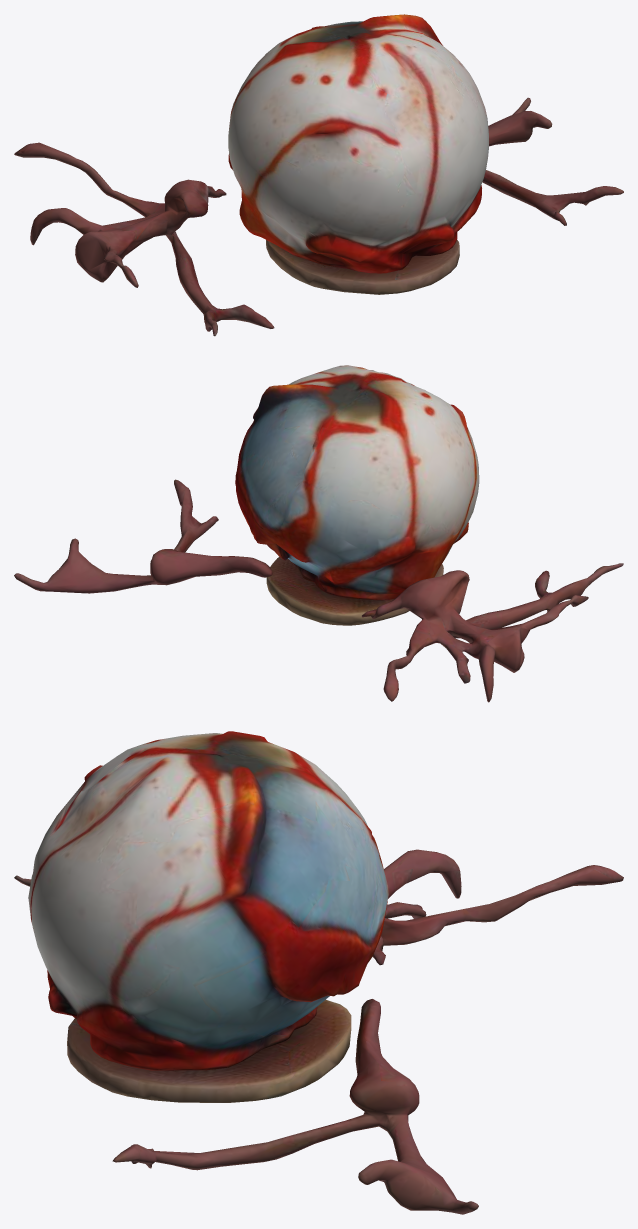
Rendered from eyeball.glb.
3 renders of one model, top to bottom at view 1: azimuth 30°, elevation 25°; view 2: azimuth 150°, elevation 25°; view 3: azimuth 270°, elevation 25°, orthographic. The views are drawn at different scales.
Parts seen in each view (by area): view 1: Mesh_0; view 2: Mesh_0; view 3: Mesh_0.
Boxes of the visible parts, x1,y1,x2,y2 form: Mesh_0: [14, 14, 623, 336]; Mesh_0: [14, 365, 623, 702]; Mesh_0: [14, 731, 623, 1214].
Size of the model in its own units: 2 by 0.8725 by 1.54.
1 material, 1 textured.
